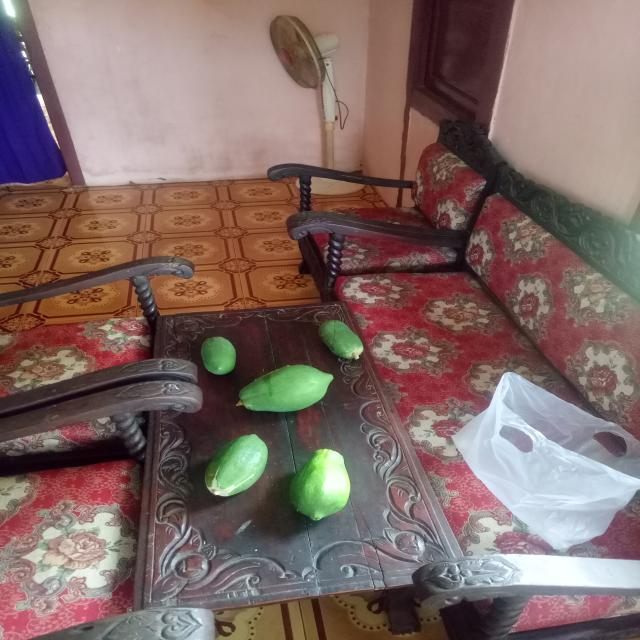Pepaya unrippen: (283, 437, 354, 524), (198, 424, 270, 504), (235, 362, 336, 416), (317, 314, 372, 364), (193, 334, 240, 374)
